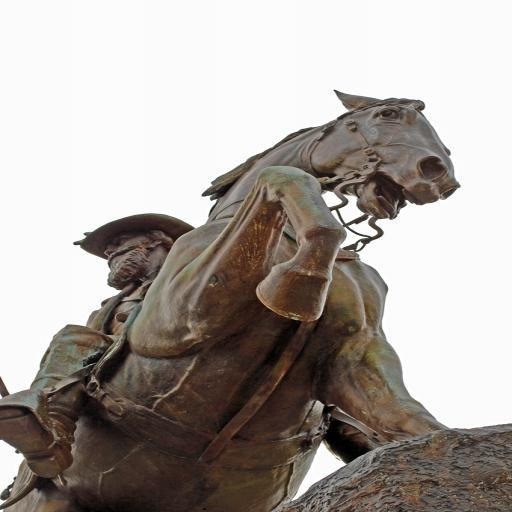horse: (0, 87, 463, 512)
